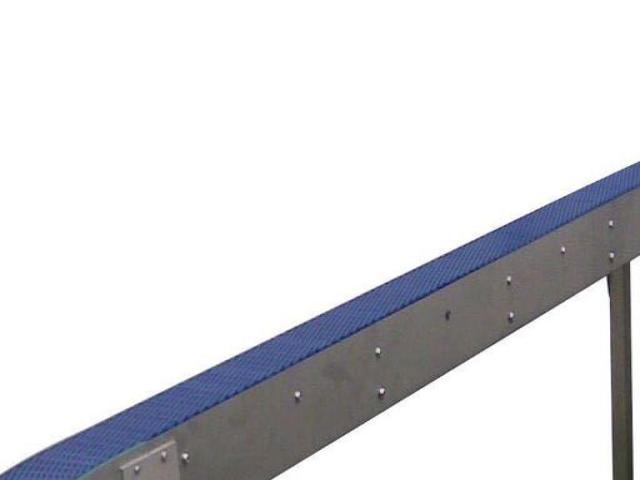conveyor: (0, 159, 640, 480)
